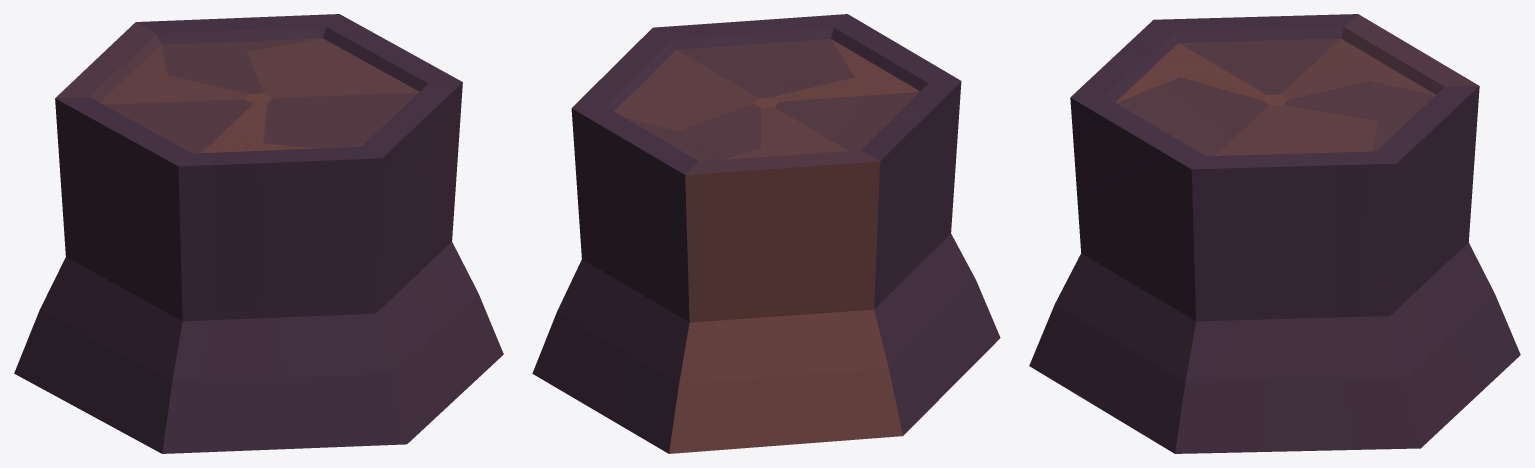
File: Garden_Stump02.fbx
3 views of the same model, side by side, from view 1: azimuth 30°, elevation 25°; view 2: azimuth 150°, elevation 25°; view 3: azimuth 270°, elevation 25° (orthographic). The views are drawn at different scales.
Parts seen in each view (by area): view 1: TolTreeTrunk4.001; view 2: TolTreeTrunk4.001; view 3: TolTreeTrunk4.001.
Boxes of the visible parts, x1=… form: TolTreeTrunk4.001: x1=14, y1=14, x2=503, y2=453; TolTreeTrunk4.001: x1=532, y1=14, x2=1000, y2=453; TolTreeTrunk4.001: x1=1029, y1=14, x2=1520, y2=453.
Bounding box in the file's own units: 44.33 × 30.97 × 49.54.
